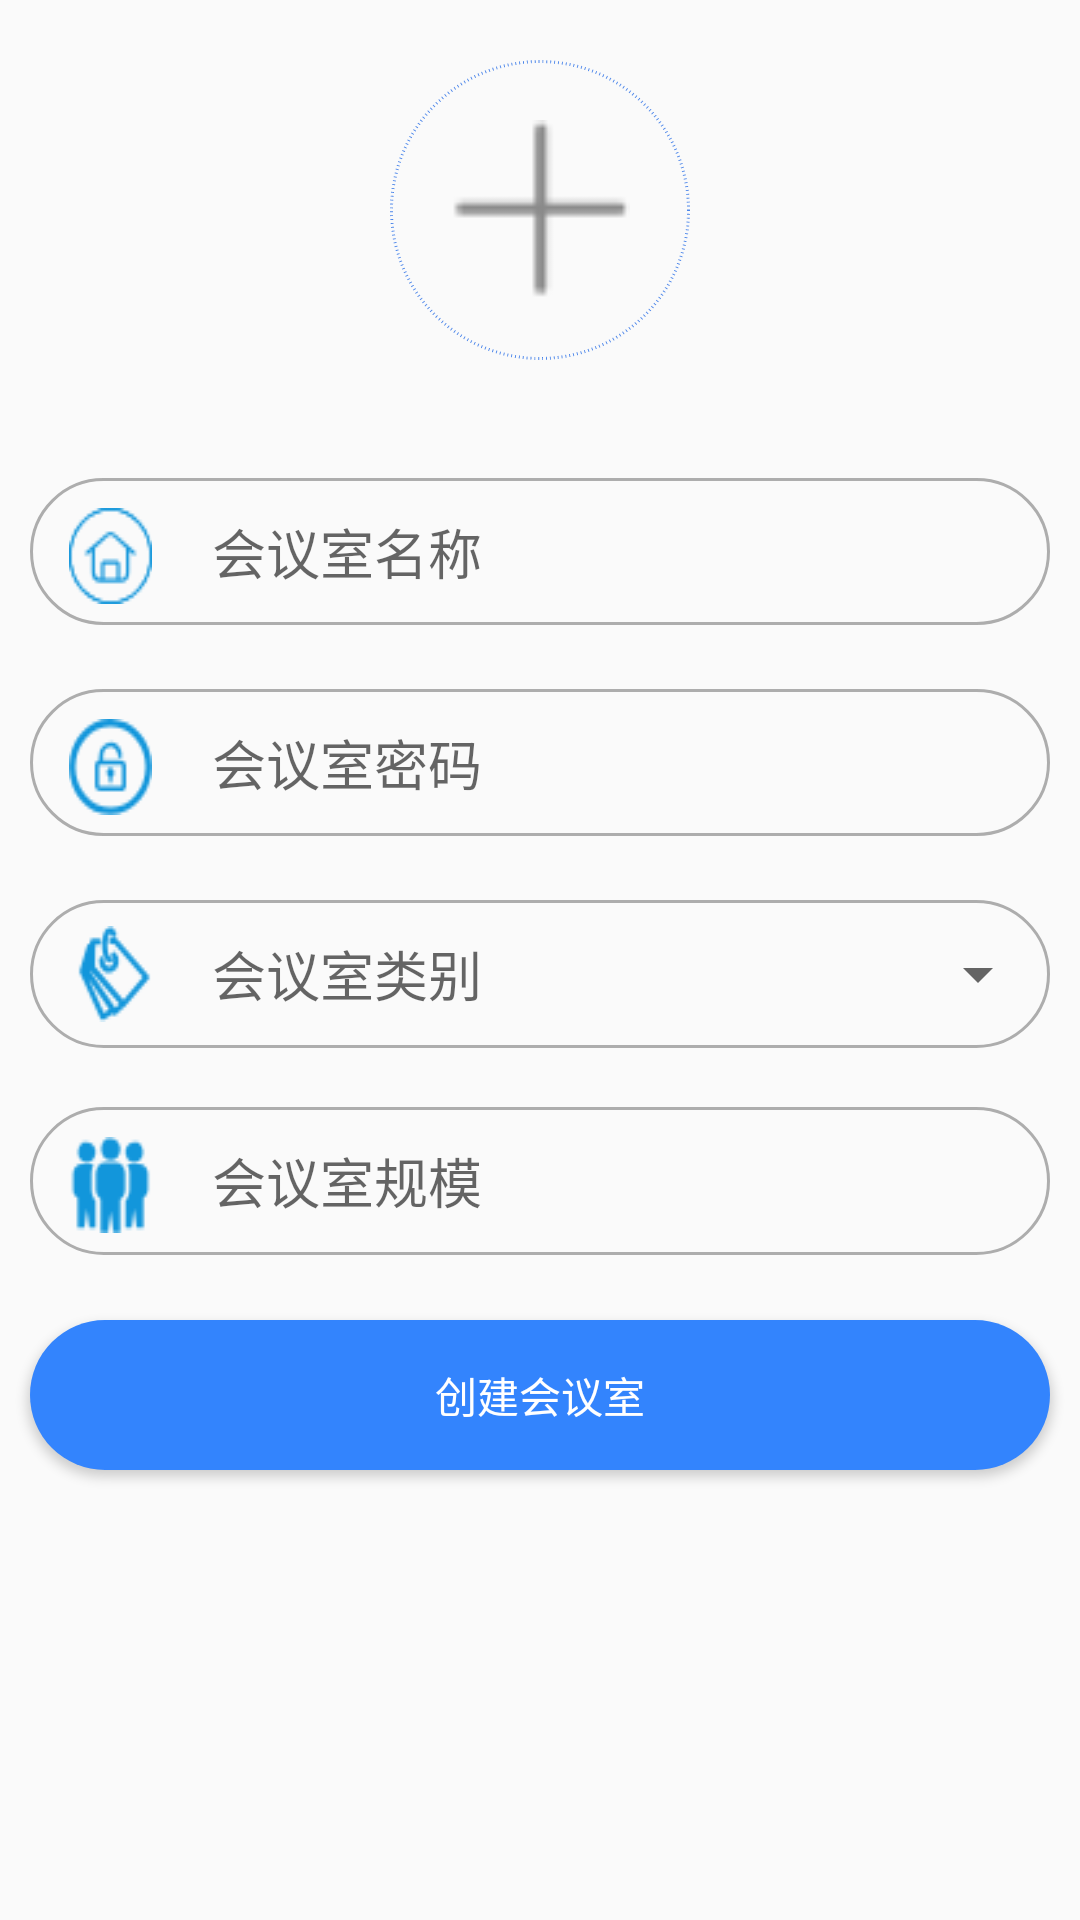

Locate icon controls on the screen. Image size 1080 × 1920, boxes as (x1, y1, x2, y2).
add: (390, 60, 690, 360)
room name: (69, 508, 152, 604)
room pwd: (69, 719, 152, 815)
room size: (71, 1137, 150, 1233)
room type: (78, 926, 150, 1022)
